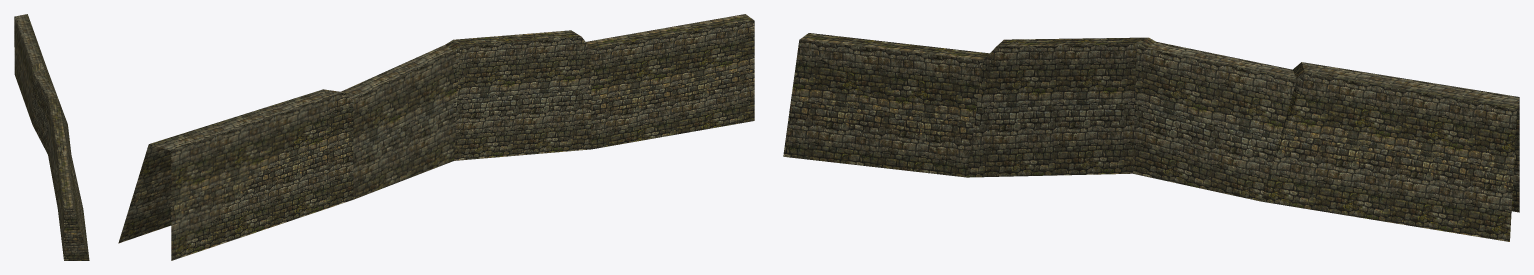
3 views of the same model, side by side, from view 1: azimuth 30°, elevation 25°; view 2: azimuth 150°, elevation 25°; view 3: azimuth 270°, elevation 25° (orthographic). The views are drawn at different scales.
Parts seen in each view (by area): view 1: TN2_W17-col; view 2: TN2_W17-col; view 3: TN2_W17-col.
Part boxes in pixels (box(x1,y1,x2,y2)): TN2_W17-col: box(14, 14, 89, 260); TN2_W17-col: box(118, 14, 754, 260); TN2_W17-col: box(783, 33, 1519, 241).
Size of the model in its own units: 20.74 by 10.52 by 41.73.
Materials: 2 (2 with a texture image).
